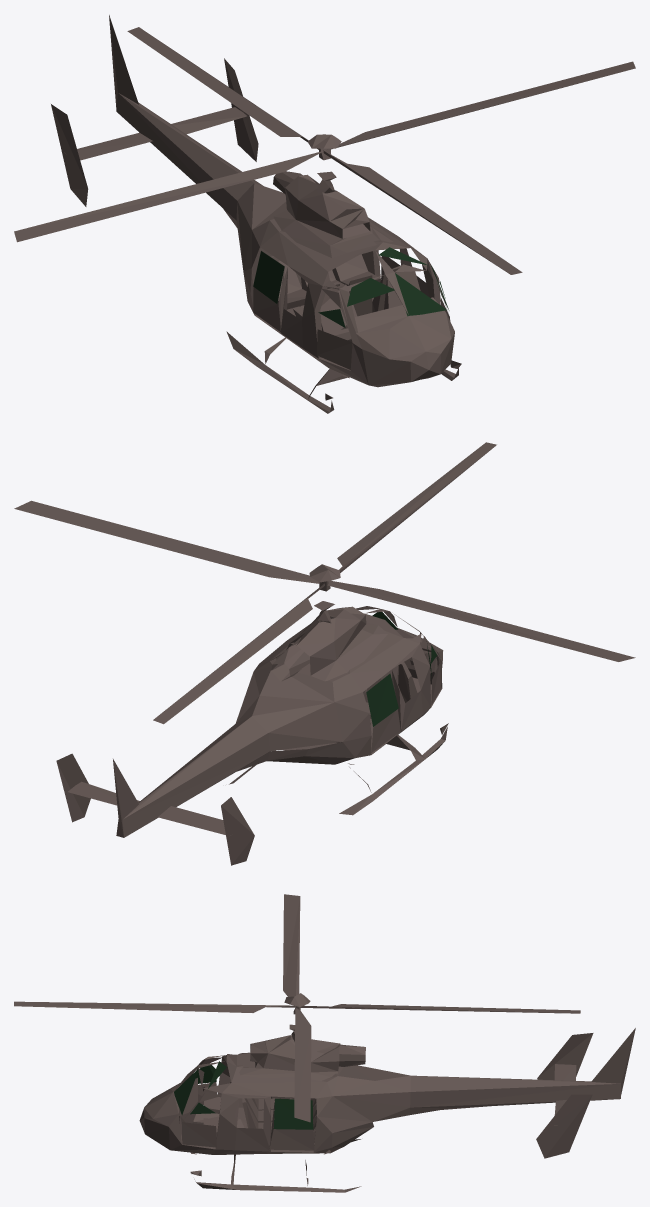
The model's file is bw-police-heli.lod1.glb.
3 views of the same model, one above another, from view 1: azimuth 30°, elevation 25°; view 2: azimuth 150°, elevation 25°; view 3: azimuth 270°, elevation 25° (orthographic). The views are drawn at different scales.
Parts seen in each view (by area): view 1: Object_6; view 2: Object_6; view 3: Object_6.
Boxes of the visible parts, bbox=[...] form: Object_6: bbox=[14, 15, 635, 413]; Object_6: bbox=[14, 442, 635, 865]; Object_6: bbox=[14, 894, 635, 1192].
Bounding box in the file's own units: 11.35 × 3.84 × 12.49.
